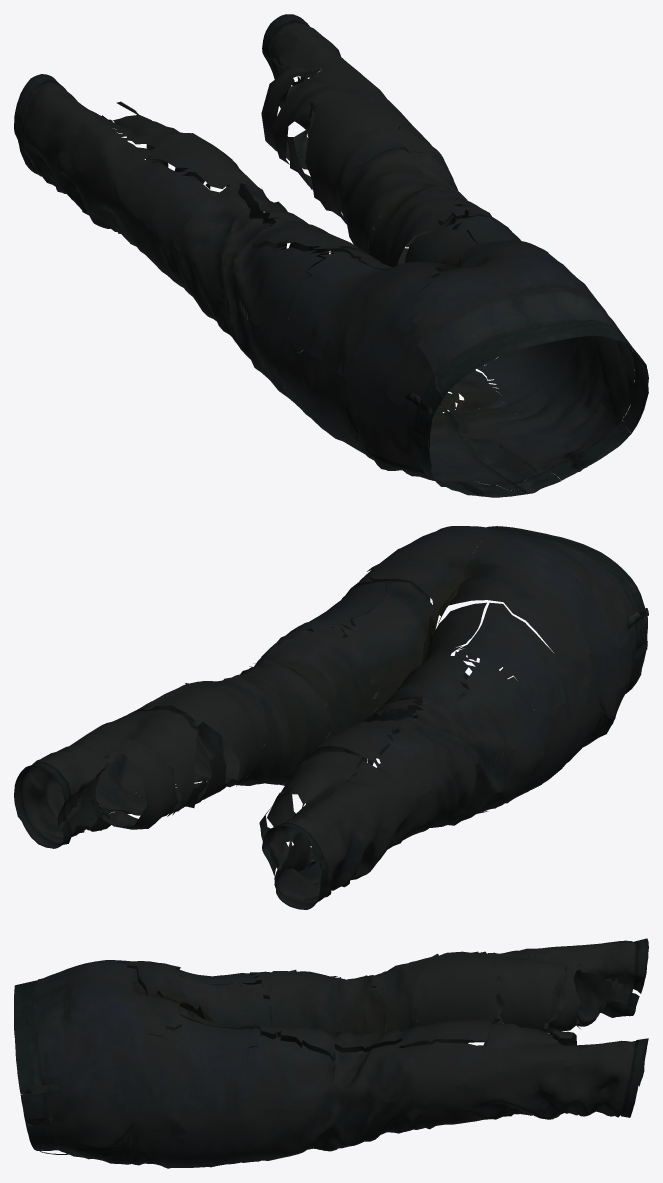
Rendered from adult-base-01.glb.
3 views of the same model, one above another, from view 1: azimuth 30°, elevation 25°; view 2: azimuth 150°, elevation 25°; view 3: azimuth 270°, elevation 25° (orthographic). The views are drawn at different scales.
Visible parts, largest first — view 1: geometry_0; view 2: geometry_0; view 3: geometry_0.
Part boxes in pixels (box(x1,y1,x2,y2)): geometry_0: box(14, 14, 648, 497); geometry_0: box(14, 526, 648, 909); geometry_0: box(14, 938, 648, 1168).
Size of the model in its own units: 0.00452 by 0.00278 by 0.0097.
Materials: 1 (1 with a texture image).
